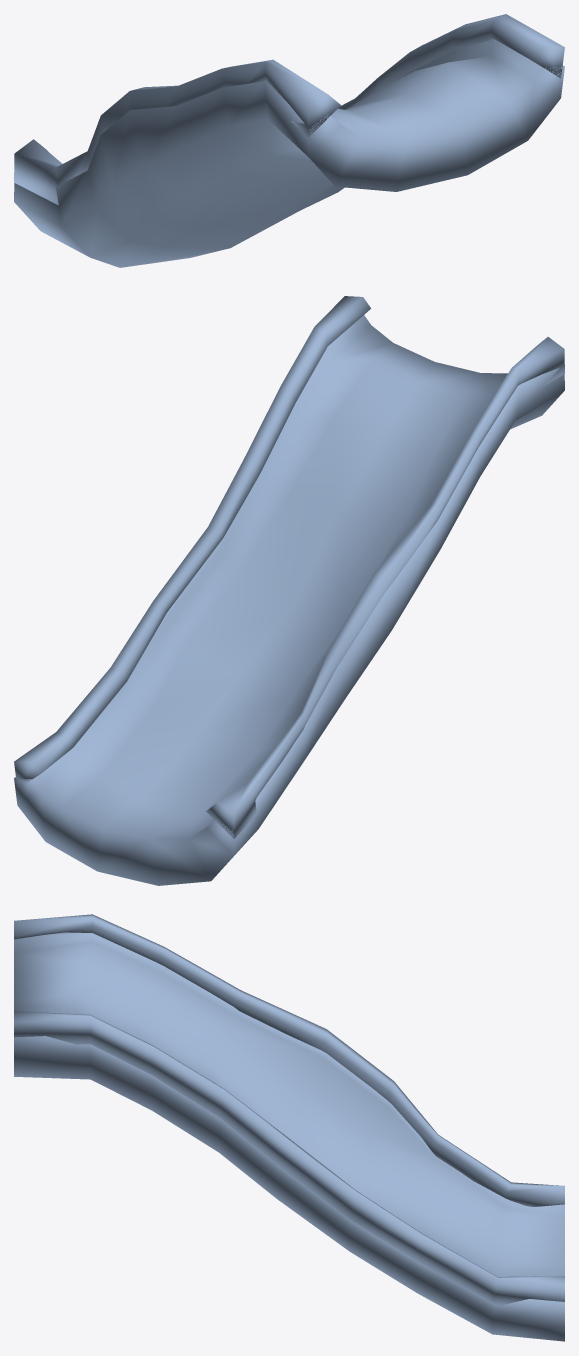
The model's file is junRoadShortSlope10.fbx.
The picture shows the model from 3 angles, top to bottom: view 1: azimuth 30°, elevation 25°; view 2: azimuth 150°, elevation 25°; view 3: azimuth 270°, elevation 25°; orthographic projection. The views are drawn at different scales.
Visible parts, largest first — view 1: roadShortSlope10_LOD0, roadShortSlope10_edge_LOD0; view 2: roadShortSlope10_LOD0, roadShortSlope10_edge_LOD0; view 3: roadShortSlope10_LOD0, roadShortSlope10_edge_LOD0.
Part boxes in pixels (bbox=[...]): roadShortSlope10_LOD0: bbox=[14, 39, 564, 267]; roadShortSlope10_edge_LOD0: bbox=[14, 14, 564, 205]; roadShortSlope10_LOD0: bbox=[14, 315, 564, 885]; roadShortSlope10_edge_LOD0: bbox=[14, 296, 564, 838]; roadShortSlope10_LOD0: bbox=[14, 932, 564, 1341]; roadShortSlope10_edge_LOD0: bbox=[14, 914, 564, 1305].
Bounding box in the file's own units: 1143 × 1520 × 2230.
